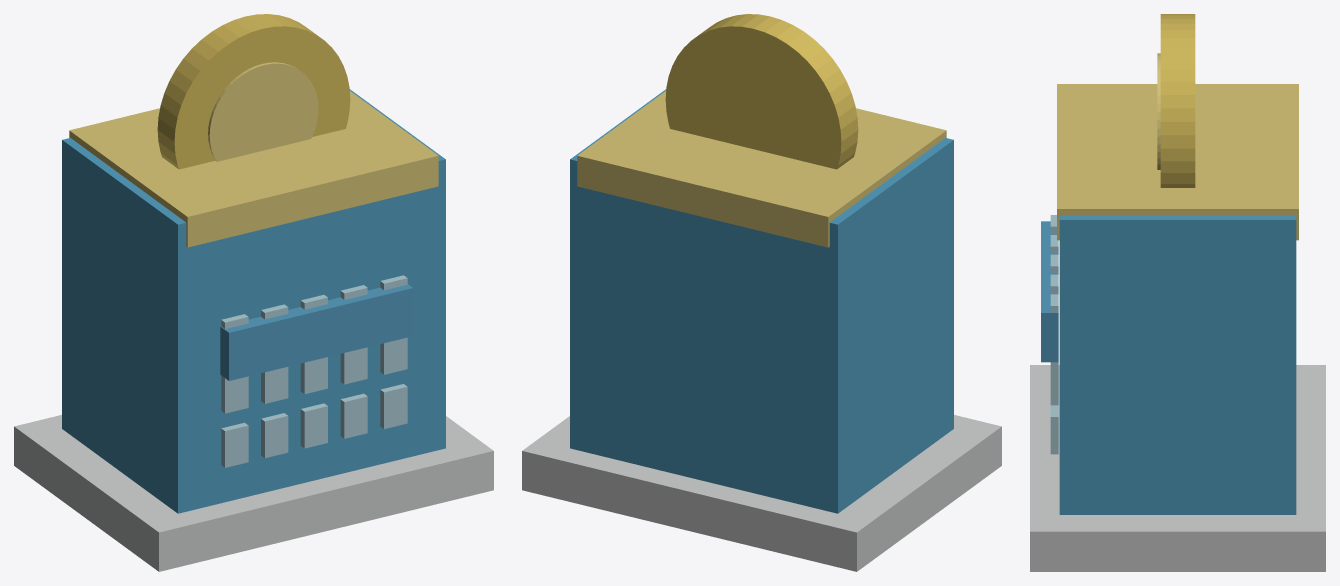
File: currency_hq.glb
3 renders of one model, left to right at view 1: azimuth 30°, elevation 25°; view 2: azimuth 150°, elevation 25°; view 3: azimuth 270°, elevation 25°, orthographic. The views are drawn at different scales.
Parts seen in each view (by area): view 1: main, base, gold_band, coin, currency_sign, coin_face, window_0_2, window_0_0, window_0_1, window_0_3, window_0_4, window_1_0 (+4 smaller); view 2: main, base, gold_band, coin; view 3: main, gold_band, base, coin, currency_sign, coin_face, window_0_4.
Part boxes in pixels (x1,y1,x2,y2): main: (62, 89, 445, 513); base: (14, 415, 493, 571); gold_band: (69, 91, 438, 247); coin: (157, 14, 350, 169); currency_sign: (220, 284, 413, 380); coin_face: (208, 62, 318, 161); window_0_2: (300, 403, 327, 448); window_0_0: (221, 422, 248, 467); window_0_1: (261, 413, 288, 458); window_0_3: (340, 393, 367, 438); window_0_4: (380, 384, 407, 428); window_1_0: (221, 375, 248, 413); main: (570, 89, 953, 513); base: (522, 415, 1001, 571); gold_band: (577, 91, 946, 247); coin: (665, 14, 858, 169); main: (1059, 215, 1296, 514); gold_band: (1057, 84, 1298, 240); base: (1030, 365, 1325, 571); coin: (1160, 14, 1195, 187); currency_sign: (1041, 221, 1058, 362); coin_face: (1157, 53, 1160, 169); window_0_4: (1050, 405, 1058, 454).
Bounding box in the file's own units: 4 × 5.2 × 3.
